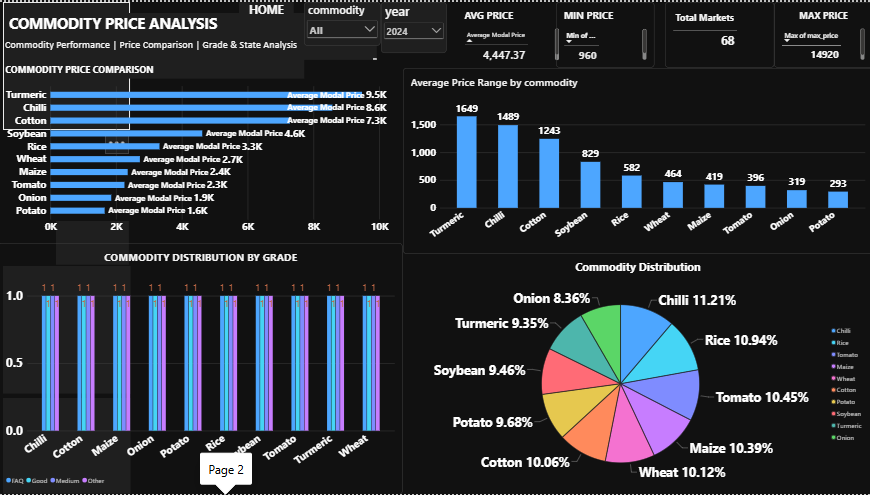

This screenshot's page, from the dashboard's own definition file:
{"tool":"powerbi","page":{"name":"Page 2","canvas":[1920,1080],"ordinal":1},"visuals":[{"type":"textbox","box":[10,0,280,280],"z":0},{"type":"textbox","title":"COMMODITY PRICE ANALYSIS","box":[24,24,648,144],"z":1000},{"type":"textbox","box":[128,480,160,96],"z":2000},{"type":"textbox","box":[10,580,280,280],"z":3000},{"type":"textbox","box":[10,870,280,210],"z":4000},{"type":"textbox","title":"Commodity Performance | Price Comparison | Grade & State Analysis","box":[16,80,816,48],"z":5000},{"type":"slicer","title":"COMMODITY","fields":{"Values":["Indian Agricultural datset.commodity"]},"box":[672,0,168,96],"z":6000},{"type":"slicer","title":"YEARS","fields":{"Values":["Indian Agricultural datset.year"]},"box":[840,0,144,112],"z":7000},{"type":"tableEx","title":"AVG PRICE","fields":{"Values":["Indian Agricultural datset.Average Modal Price"]},"box":[1008,0,240,144],"z":8000},{"type":"tableEx","title":"MIN PRICE","fields":{"Values":["Min(Indian Agricultural datset.min_price)"]},"box":[1224,0,216,144],"z":9000},{"type":"tableEx","title":"MAX PRICE","fields":{"Values":["Max(Indian Agricultural datset.max_price)"]},"box":[1704,0,216,144],"z":10000},{"type":"tableEx","fields":{"Values":["Indian Agricultural datset.Total Markets"]},"box":[1464,0,240,144],"z":12000},{"type":"clusteredBarChart","title":"COMMODITY PRICE COMPARISON","fields":{"Category":["Indian Agricultural datset.commodity"],"Y":["Indian Agricultural datset.Average Modal Price"]},"box":[0,120,888,408],"z":13000},{"type":"clusteredColumnChart","fields":{"Category":["Indian Agricultural datset.commodity"],"Y":["Indian Agricultural datset.Average Price Range"]},"box":[888,144,1032,408],"z":14000},{"type":"clusteredColumnChart","title":"COMMODITY DISTRIBUTION BY GRADE","fields":{"Category":["Indian Agricultural datset.commodity"],"Series":["Indian Agricultural datset.grade"],"Y":["Indian Agricultural datset.Total Commodities"]},"box":[0,528,888,552],"z":15000},{"type":"pieChart","title":"Commodity Distribution","fields":{"Category":["Indian Agricultural datset.commodity"],"Y":["CountNonNull(Indian Agricultural datset.commodity)"]},"box":[888,552,1032,528],"z":16000},{"type":"actionButton","title":"HOME","box":[528,0,120,48],"z":16001}]}

Visuals, with their boxes in screenshot pixels (x1, y1, x2, y2), scaled from the page's 1920x1080 canvas onto the 870x495 screenshot:
textbox: locate(5, 0, 131, 128)
"COMMODITY PRICE ANALYSIS" textbox: locate(11, 11, 304, 77)
textbox: locate(58, 220, 130, 264)
textbox: locate(5, 266, 131, 394)
textbox: locate(5, 399, 131, 494)
"Commodity Performance | Price Comparison | Grade & State Analysis" textbox: locate(7, 37, 377, 59)
"COMMODITY" slicer: locate(304, 0, 381, 44)
"YEARS" slicer: locate(381, 0, 446, 51)
"AVG PRICE" tableEx: locate(457, 0, 566, 66)
"MIN PRICE" tableEx: locate(555, 0, 652, 66)
"MAX PRICE" tableEx: locate(772, 0, 869, 66)
tableEx - Indian Agricultural datset.Total Markets: locate(663, 0, 772, 66)
"COMMODITY PRICE COMPARISON" clusteredBarChart: locate(0, 55, 402, 242)
clusteredColumnChart - Indian Agricultural datset.commodity x Indian Agricultural datset.Average Price Range: locate(402, 66, 869, 253)
"COMMODITY DISTRIBUTION BY GRADE" clusteredColumnChart: locate(0, 242, 402, 494)
"Commodity Distribution" pieChart: locate(402, 253, 869, 494)
"HOME" actionButton: locate(239, 0, 294, 22)
